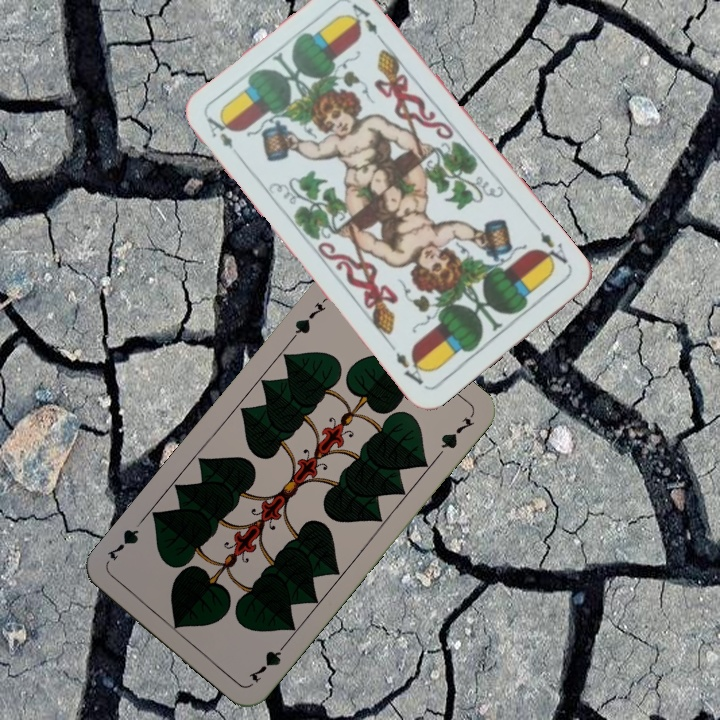EA: (202, 111, 244, 161), (531, 220, 570, 271)
G7: (244, 636, 291, 686), (287, 293, 331, 342)
